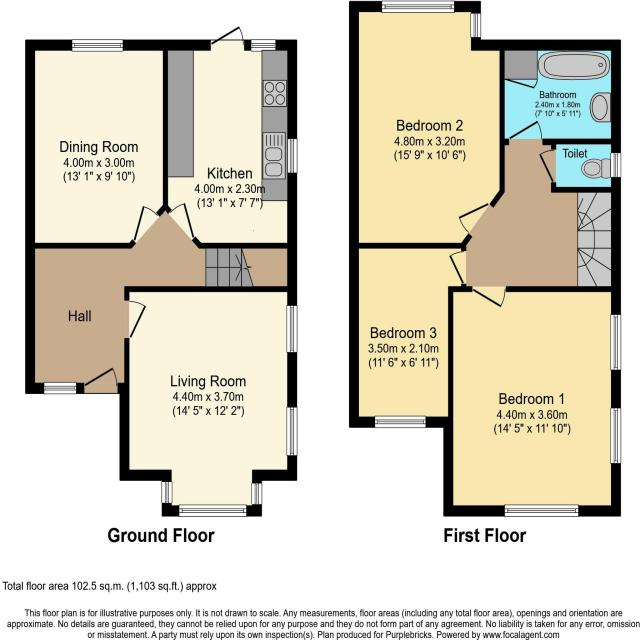DOOR: (455, 202, 497, 239), (167, 200, 197, 240), (133, 202, 160, 246), (205, 22, 246, 50), (83, 365, 120, 395), (123, 298, 148, 342), (467, 286, 509, 310), (506, 117, 544, 140), (446, 249, 468, 285), (537, 149, 557, 183)
ROOM: (117, 285, 298, 517), (443, 285, 621, 518), (348, 0, 504, 249), (161, 20, 298, 249), (25, 39, 168, 249), (348, 238, 466, 428), (40, 380, 78, 397)
WINDOW: (503, 502, 579, 519), (175, 502, 249, 519), (381, 0, 456, 14), (68, 38, 125, 55), (373, 413, 428, 430), (609, 312, 624, 374), (609, 406, 623, 465), (285, 404, 299, 457), (285, 303, 299, 356), (286, 136, 299, 174), (609, 149, 623, 179), (160, 479, 174, 504), (469, 12, 482, 38), (250, 482, 264, 505)
